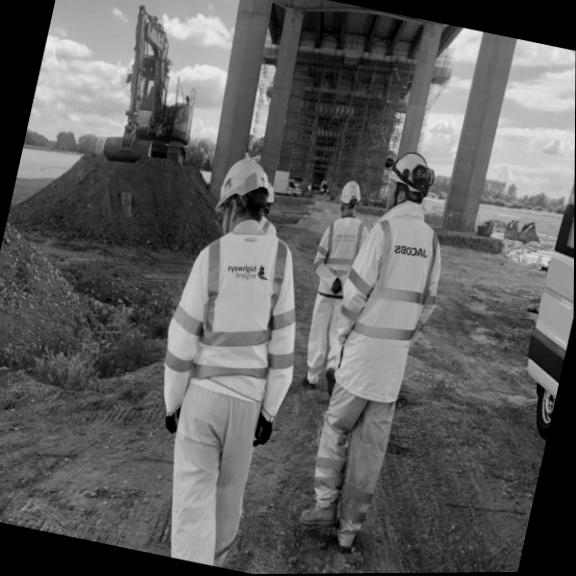safety_vest: (155, 213, 305, 427), (321, 196, 450, 407)
